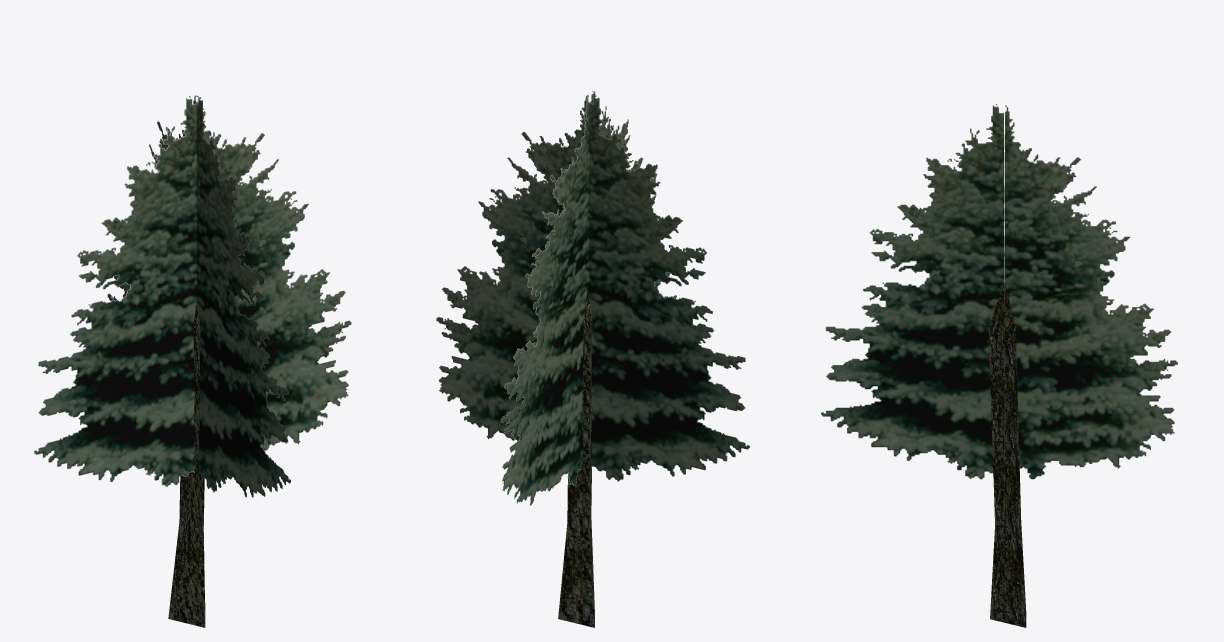
The model's file is Tree18.fbx.
3 renders of one model, left to right at view 1: azimuth 30°, elevation 25°; view 2: azimuth 150°, elevation 25°; view 3: azimuth 270°, elevation 25°, orthographic. The views are drawn at different scales.
Visible parts, largest first — view 1: Lomb, T_rzs; view 2: Lomb, T_rzs; view 3: Lomb, T_rzs.
Boxes of the visible parts, x1,y1,x2,y2 form: Lomb: [34, 95, 351, 497]; T_rzs: [168, 302, 205, 627]; Lomb: [436, 91, 749, 505]; T_rzs: [558, 289, 594, 627]; Lomb: [821, 104, 1177, 512]; T_rzs: [988, 283, 1026, 627].
Size of the model in its own units: 21 by 29.15 by 21.
